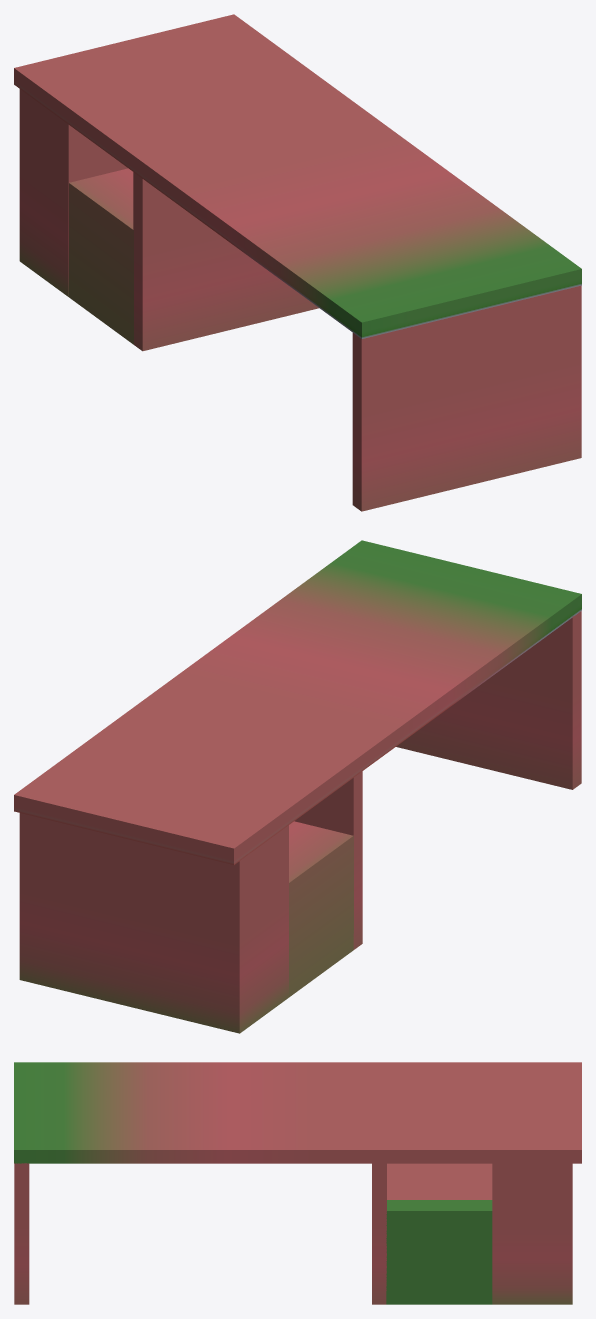
The model's file is Office_Table.fbx.
3 renders of one model, top to bottom at view 1: azimuth 30°, elevation 25°; view 2: azimuth 150°, elevation 25°; view 3: azimuth 270°, elevation 25°, orthographic. The views are drawn at different scales.
Visible parts, largest first — view 1: Office_Table; view 2: Office_Table; view 3: Office_Table.
Boxes of the visible parts, x1,y1,x2,y2 form: Office_Table: (14,14,581,511); Office_Table: (14,540,581,1033); Office_Table: (14,1062,581,1304).
Size of the model in its own units: 136 by 112 by 373.
